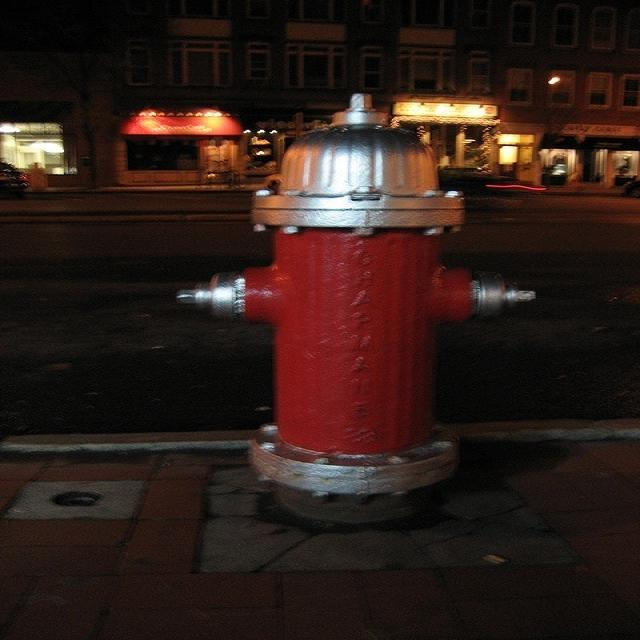fire_hydrant: (198, 92, 514, 524)
